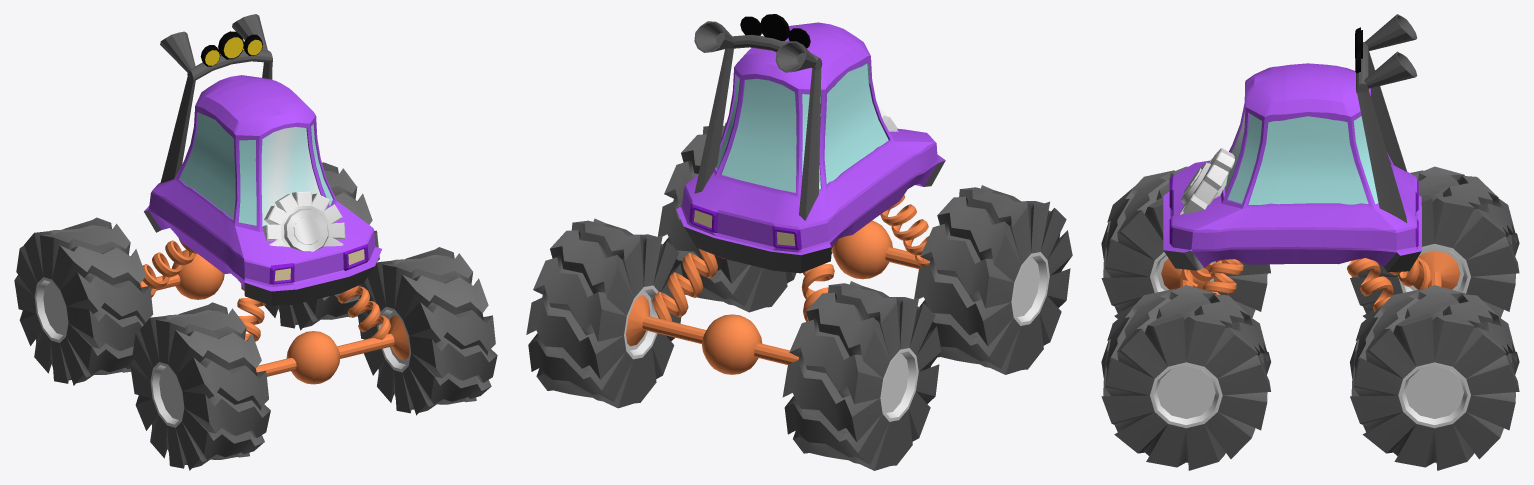
Rendered from monster truck.fbx.
3 renders of one model, left to right at view 1: azimuth 30°, elevation 25°; view 2: azimuth 150°, elevation 25°; view 3: azimuth 270°, elevation 25°, orthographic. The views are drawn at different scales.
Parts seen in each view (by area): view 1: body, wheel1, wheel3, wheel, connection, wheel2, conneciton, helix1, helix2, helix; view 2: body, wheel3, wheel1, wheel2, wheel, conneciton, connection, helix3, helix, helix1; view 3: body, wheel2, wheel, wheel3, wheel1, conneciton, helix3, helix2, connection, helix1.
Boxes of the visible parts, box(x1,y1,x2,y2) form: body: box(144, 14, 381, 305); wheel1: box(130, 302, 270, 470); wheel3: box(14, 217, 153, 385); wheel: box(358, 247, 497, 415); connection: box(256, 315, 409, 384); wheel2: box(264, 162, 379, 330); conneciton: box(140, 249, 224, 299); helix1: box(140, 239, 196, 297); helix2: box(337, 285, 390, 339); helix: box(237, 284, 265, 341); body: box(676, 14, 945, 273); wheel3: box(782, 281, 941, 470); wheel1: box(914, 185, 1072, 374); wheel2: box(526, 218, 682, 408); wheel: box(658, 123, 796, 312); conneciton: box(626, 295, 798, 374); connection: box(833, 220, 927, 279); helix3: box(652, 249, 724, 321); helix: box(880, 195, 930, 267); helix1: box(801, 247, 834, 321); body: box(1163, 14, 1421, 272); wheel2: box(1350, 285, 1519, 470); wheel: box(1101, 285, 1270, 470); wheel3: box(1350, 166, 1519, 318); wheel1: box(1101, 166, 1270, 318); conneciton: box(1413, 250, 1460, 289); helix3: box(1347, 258, 1393, 311); helix2: box(1202, 259, 1243, 294); connection: box(1161, 258, 1209, 289); helix1: box(1390, 257, 1432, 289).
Bounding box in the file's own units: 62.47 × 69.19 × 72.09.
Materials: 1 (1 with a texture image).
